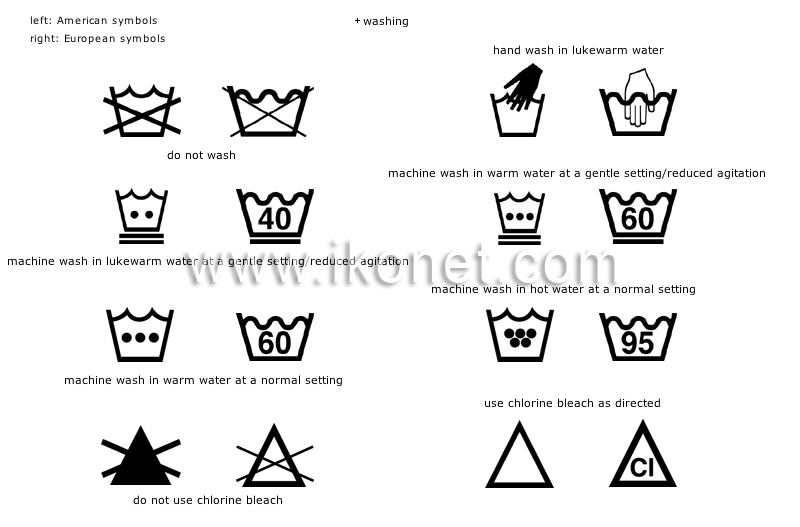do_not_bleach: (226, 421, 325, 494), (91, 421, 190, 493)
do_not_wash: (221, 81, 316, 141), (101, 77, 188, 141)
